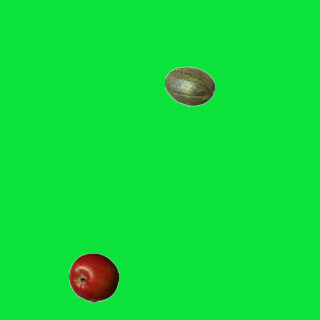Apple Braeburn: (68, 252, 118, 302)
Melon Piel de Sapo: (164, 61, 214, 111)
